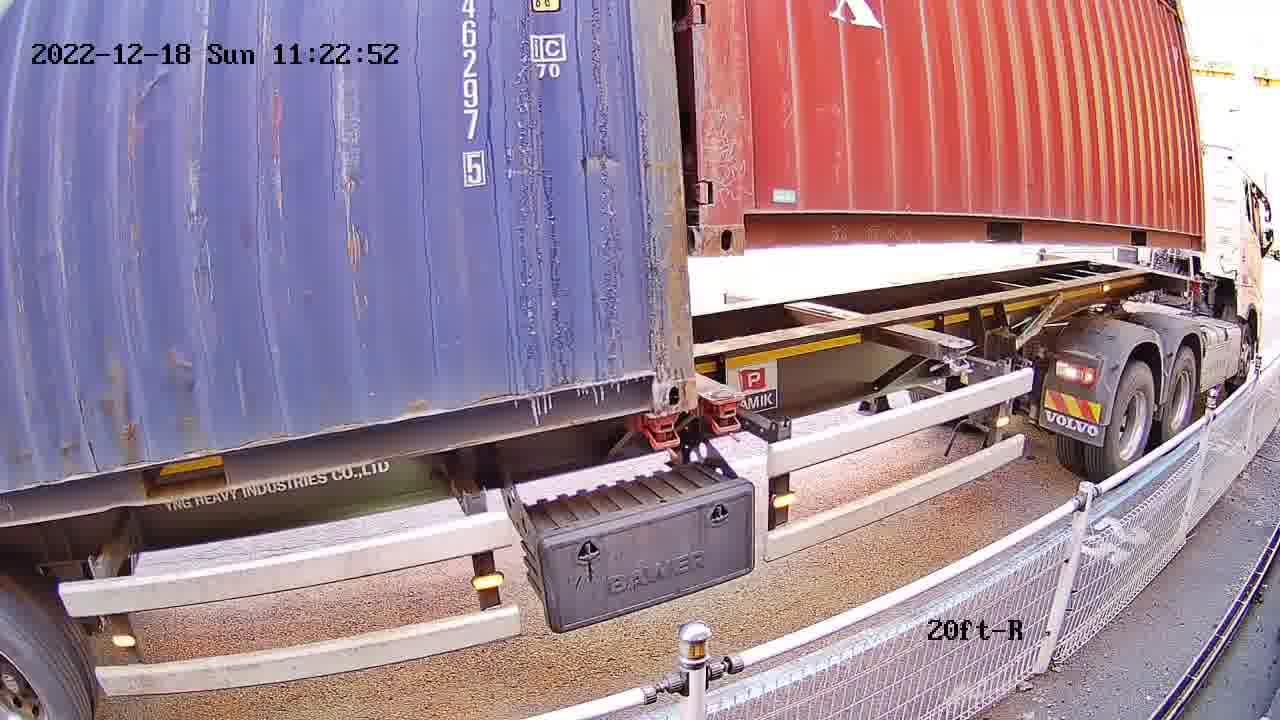Cone: (703, 388, 744, 437), (640, 411, 681, 450)
Hole_L: (701, 188, 782, 255)
Hole_R: (618, 347, 699, 414)
Tire: (1104, 364, 1154, 480), (1163, 352, 1198, 441)
